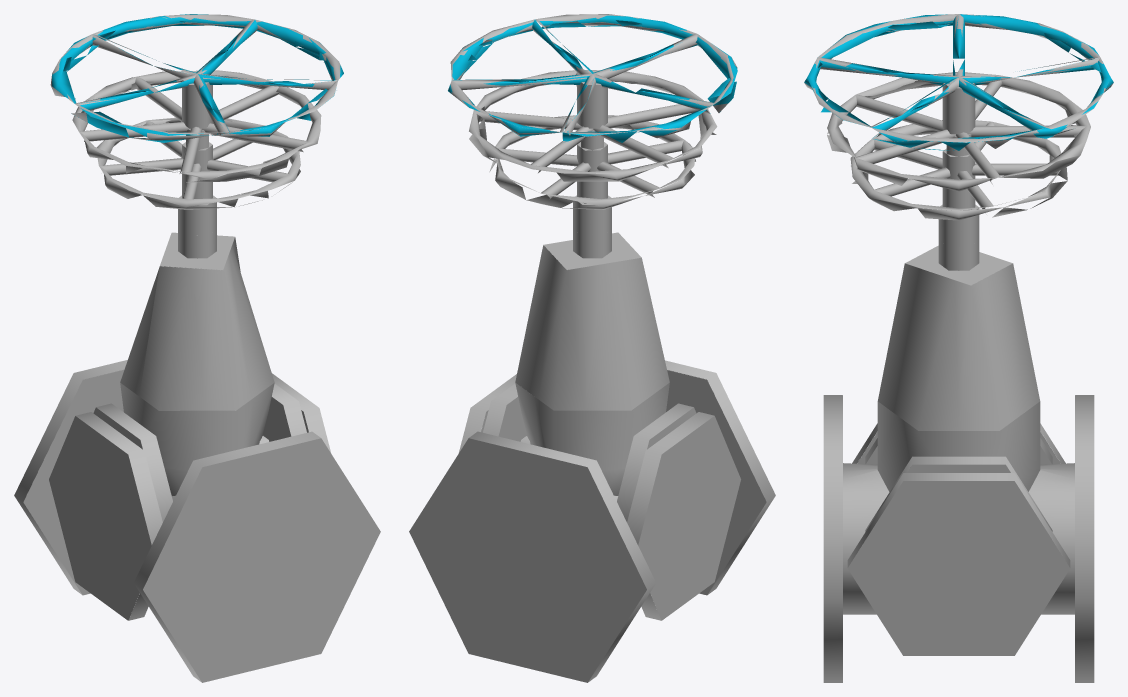
Rendered from 88a4f696-90cb-4591-af4d-3b0dc7d2ada2.glb.
The picture shows the model from 3 angles, left to right: view 1: azimuth 30°, elevation 25°; view 2: azimuth 150°, elevation 25°; view 3: azimuth 270°, elevation 25°; orthographic projection. The views are drawn at different scales.
Parts seen in each view (by area): view 1: 150 mm [1235352][bbd7b01a-cf78-4157-886d-1d15003f219d-0012d9, PIPE-FS 150 mm [1207888][bbd7b01a-cf78-4157-886d-1d15003f219, 100 mm [1235381][bbd7b01a-cf78-4157-886d-1d15003f219d-0012d9, 65 mm [1235383][bbd7b01a-cf78-4157-886d-1d15003f219d-0012d9b; view 2: 150 mm [1235352][bbd7b01a-cf78-4157-886d-1d15003f219d-0012d9, PIPE-FS 150 mm [1207888][bbd7b01a-cf78-4157-886d-1d15003f219, 100 mm [1235381][bbd7b01a-cf78-4157-886d-1d15003f219d-0012d9, 65 mm [1235383][bbd7b01a-cf78-4157-886d-1d15003f219d-0012d9b; view 3: 100 mm [1235381][bbd7b01a-cf78-4157-886d-1d15003f219d-0012d9, 150 mm [1235352][bbd7b01a-cf78-4157-886d-1d15003f219d-0012d9, PIPE-FS 150 mm [1207888][bbd7b01a-cf78-4157-886d-1d15003f219, 65 mm [1235383][bbd7b01a-cf78-4157-886d-1d15003f219d-0012d9b.
Part boxes in pixels (x1=…): 150 mm [1235352][bbd7b01a-cf78-4157-886d-1d15003f219d-0012d9: x1=14, y1=14, x2=380, y2=682; PIPE-FS 150 mm [1207888][bbd7b01a-cf78-4157-886d-1d15003f219: x1=21, y1=14, x2=343, y2=682; 100 mm [1235381][bbd7b01a-cf78-4157-886d-1d15003f219d-0012d9: x1=49, y1=70, x2=331, y2=620; 65 mm [1235383][bbd7b01a-cf78-4157-886d-1d15003f219d-0012d9b: x1=93, y1=117, x2=306, y2=521; 150 mm [1235352][bbd7b01a-cf78-4157-886d-1d15003f219d-0012d9: x1=409, y1=14, x2=775, y2=682; PIPE-FS 150 mm [1207888][bbd7b01a-cf78-4157-886d-1d15003f219: x1=448, y1=15, x2=766, y2=682; 100 mm [1235381][bbd7b01a-cf78-4157-886d-1d15003f219d-0012d9: x1=459, y1=70, x2=740, y2=620; 65 mm [1235383][bbd7b01a-cf78-4157-886d-1d15003f219d-0012d9b: x1=483, y1=115, x2=696, y2=521; 100 mm [1235381][bbd7b01a-cf78-4157-886d-1d15003f219d-0012d9: x1=827, y1=72, x2=1090, y2=655; 150 mm [1235352][bbd7b01a-cf78-4157-886d-1d15003f219d-0012d9: x1=804, y1=14, x2=1113, y2=682; PIPE-FS 150 mm [1207888][bbd7b01a-cf78-4157-886d-1d15003f219: x1=804, y1=14, x2=1113, y2=682; 65 mm [1235383][bbd7b01a-cf78-4157-886d-1d15003f219d-0012d9b: x1=850, y1=120, x2=1067, y2=531.
Size of the model in its own units: 0.3024 by 0.6264 by 0.3057.
